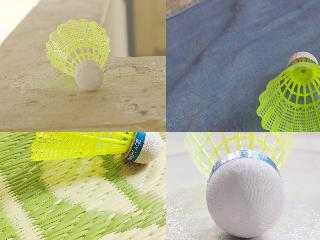shuttlecock: (183, 132, 298, 238), (256, 51, 319, 131), (29, 132, 163, 167), (46, 19, 110, 90)
